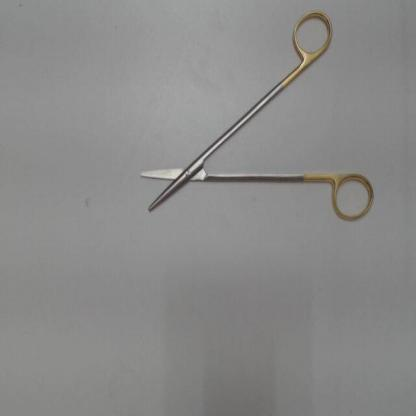7 Metzenbaum Scissors: (131, 6, 382, 231)
